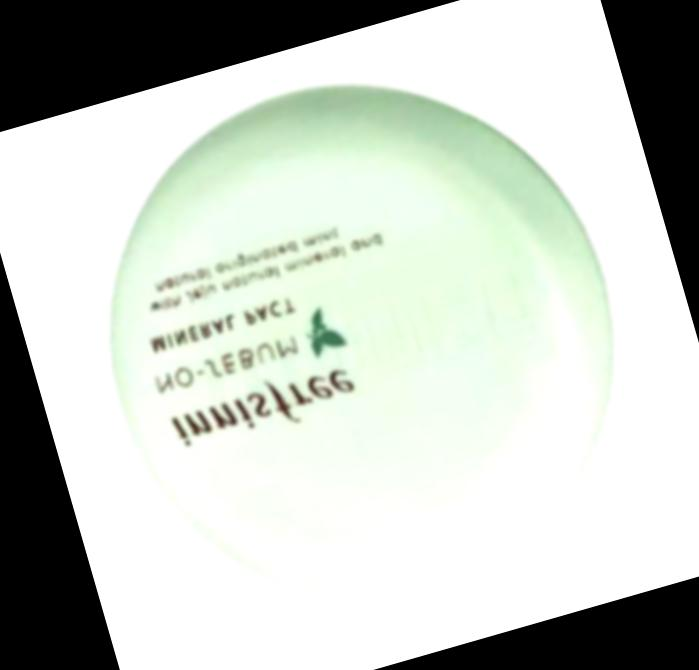cosmetic: (45, 18, 679, 662)
